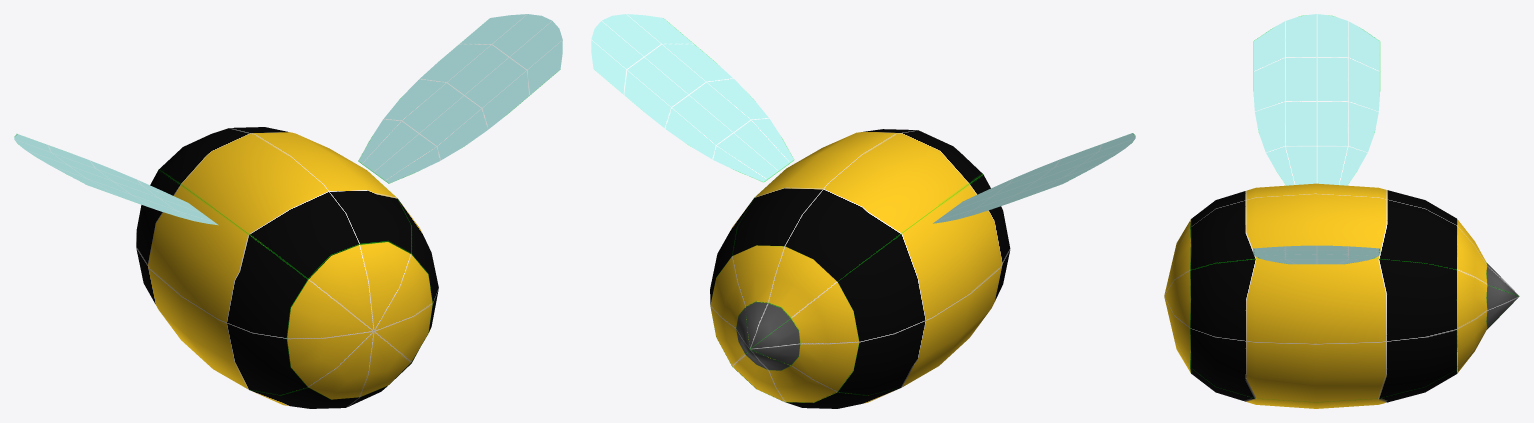
The model's file is Bee_3D_Model.fbx.
The picture shows the model from 3 angles, left to right: view 1: azimuth 30°, elevation 25°; view 2: azimuth 150°, elevation 25°; view 3: azimuth 270°, elevation 25°; orthographic projection. The views are drawn at different scales.
Parts seen in each view (by area): view 1: Bee001; view 2: Bee001; view 3: Bee001.
Boxes of the visible parts, x1,y1,x2,y2 form: Bee001: (14, 14, 562, 408); Bee001: (591, 14, 1135, 408); Bee001: (1164, 14, 1519, 408).
Size of the model in its own units: 30.38 by 16.42 by 19.72.
